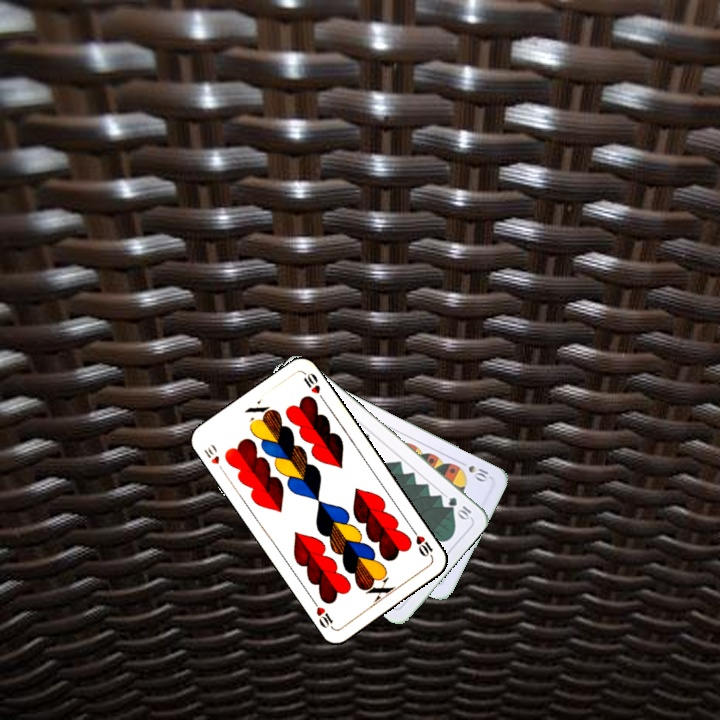G10: (444, 493, 474, 522)
H10: (408, 525, 436, 561), (200, 440, 228, 476)
S10: (455, 457, 491, 484)
